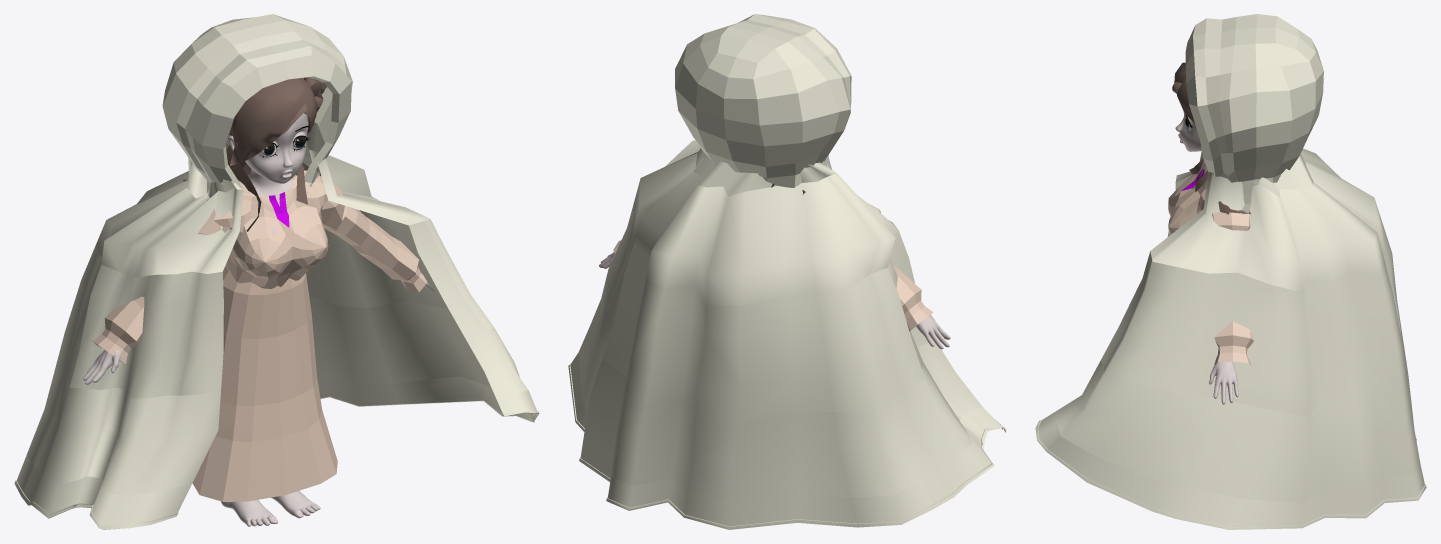
The model's file is 22-叶二娘-站立.fbx.
The picture shows the model from 3 angles, left to right: view 1: azimuth 30°, elevation 25°; view 2: azimuth 150°, elevation 25°; view 3: azimuth 270°, elevation 25°; orthographic projection. The views are drawn at different scales.
Parts seen in each view (by area): view 1: pasted__sa, pasted__polySurface18, pasted__polySurface93, pasted__polySurface17, pasted__girl_pivot, body; view 2: pasted__sa, pasted__polySurface93, pasted__polySurface17, body; view 3: pasted__sa, pasted__polySurface93, pasted__polySurface17, body, pasted__girl_pivot.
Part boxes in pixels (x1,y1,x2,y2): pasted__sa: (14, 122, 539, 529); pasted__polySurface18: (192, 264, 337, 501); pasted__polySurface93: (162, 14, 352, 192); pasted__polySurface17: (92, 170, 427, 363); pasted__girl_pivot: (183, 78, 320, 231); body: (83, 113, 434, 526); pasted__sa: (568, 140, 1006, 529); pasted__polySurface93: (675, 14, 851, 187); pasted__polySurface17: (613, 240, 933, 331); body: (599, 252, 950, 349); pasted__sa: (1035, 148, 1426, 529); pasted__polySurface93: (1185, 14, 1323, 214); pasted__polySurface17: (1168, 161, 1253, 366); body: (1175, 109, 1238, 404); pasted__girl_pivot: (1172, 62, 1250, 214).
Bounding box in the file's own units: 14.31 × 14.34 × 11.34.
Materials: 9 (2 with a texture image).
